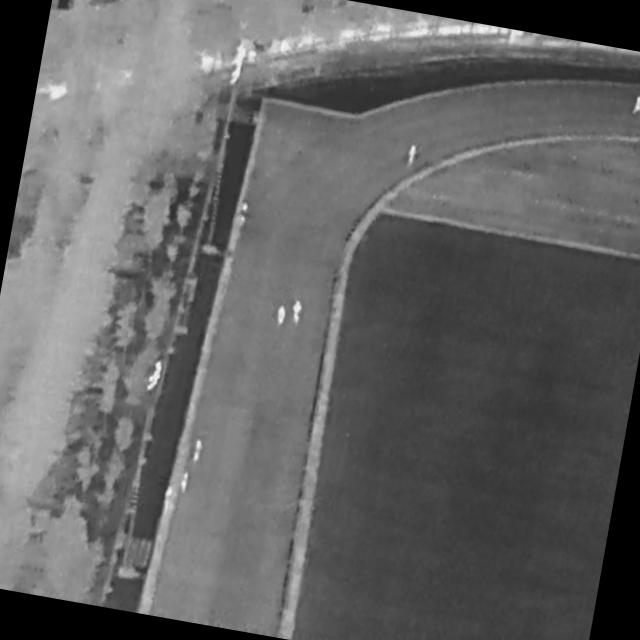person: (291, 300, 304, 326), (192, 440, 205, 465), (237, 202, 249, 228), (164, 486, 175, 513), (276, 305, 288, 326), (180, 472, 191, 494), (407, 144, 417, 167), (633, 96, 640, 116)
